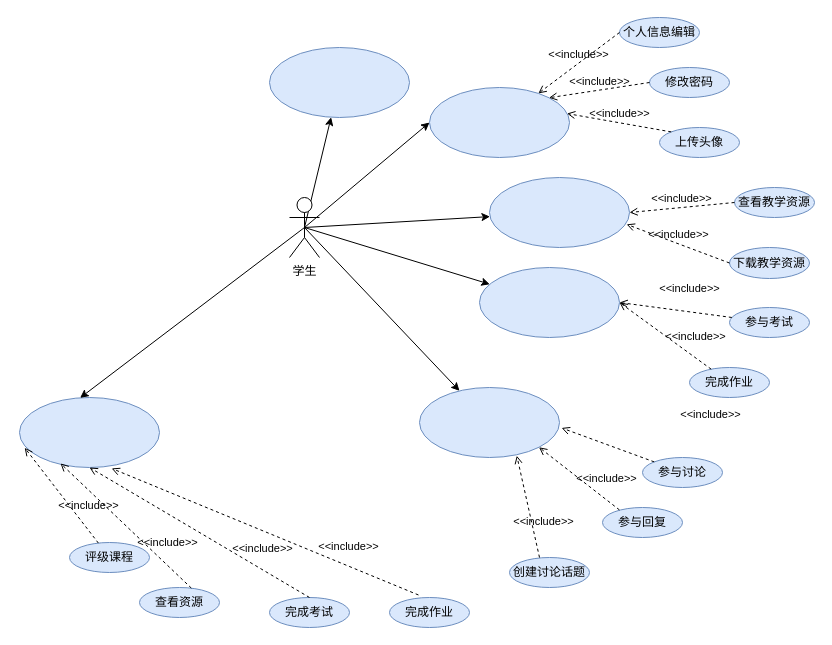
The diagram is 832 pixels wide and 645 high, and some of its shapes have lost their labels. Here are the shapes that lost their labels. From the top down, the centre of each, then its label:
At (339,82): "登录".
At (499,122): "用户管理".
At (559,212): "教学资源管理".
At (549,302): "作业考试管理".
At (89,432): "学习行为记录管理".
At (489,422): "交流互动".
